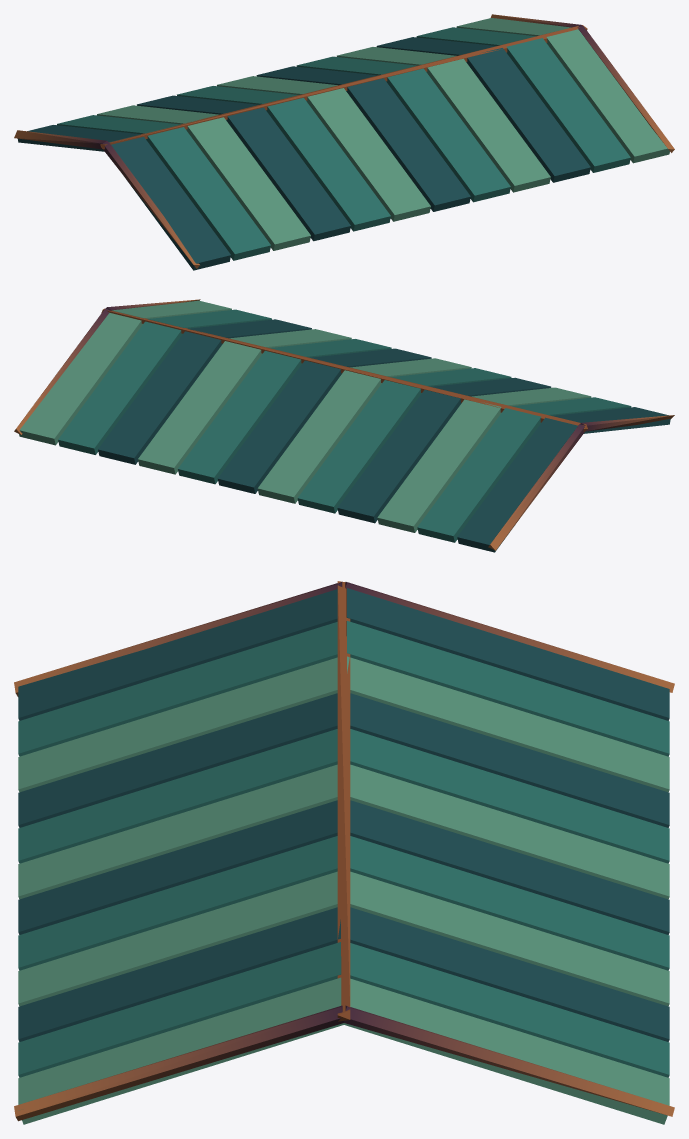
File: grove_barn_roof-lod1.glb
3 renders of one model, top to bottom at view 1: azimuth 30°, elevation 25°; view 2: azimuth 150°, elevation 25°; view 3: azimuth 270°, elevation 25°, orthographic. The views are drawn at different scales.
Parts seen in each view (by area): view 1: grove_barn_roof; view 2: grove_barn_roof; view 3: grove_barn_roof.
Part boxes in pixels (x1,y1,x2,y2): grove_barn_roof: [14, 14, 674, 270]; grove_barn_roof: [14, 299, 674, 552]; grove_barn_roof: [14, 581, 674, 1124].
Size of the model in its own units: 19.75 by 2.53 by 12.76.
